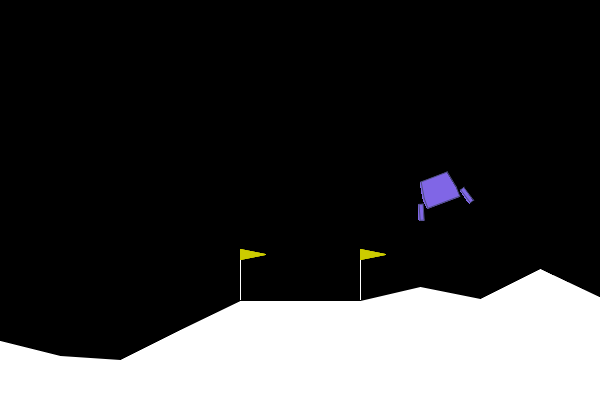lander: (405, 165, 475, 223)
